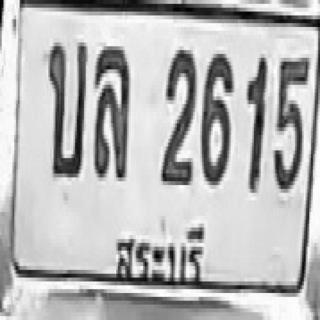A26: (45, 36, 86, 172)
A36: (93, 41, 129, 176)
N01: (245, 52, 265, 187)
N02: (159, 44, 195, 179)
N05: (272, 52, 307, 187)
N06: (199, 48, 232, 179)
P60: (110, 215, 206, 288)
